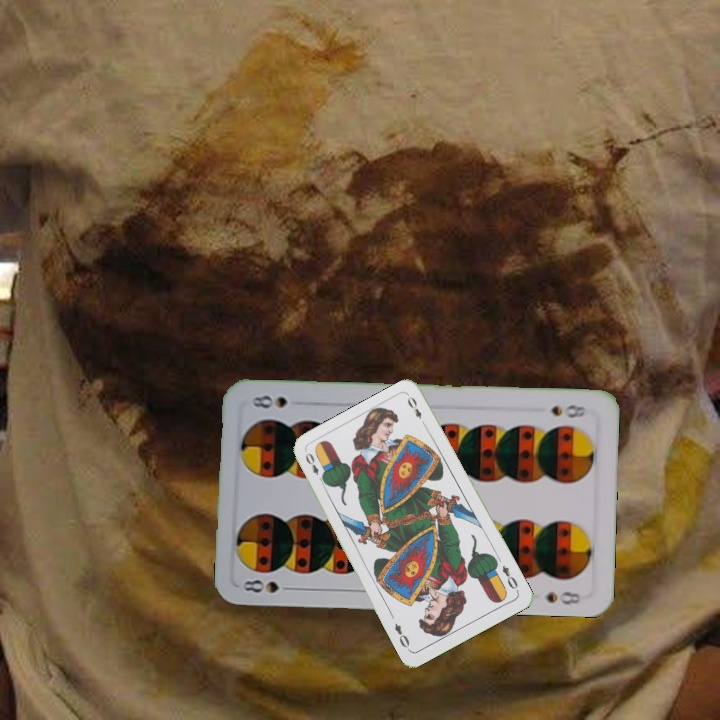EO: (301, 449, 327, 486), (498, 561, 521, 595)
S8: (239, 576, 298, 596), (547, 400, 593, 420)
